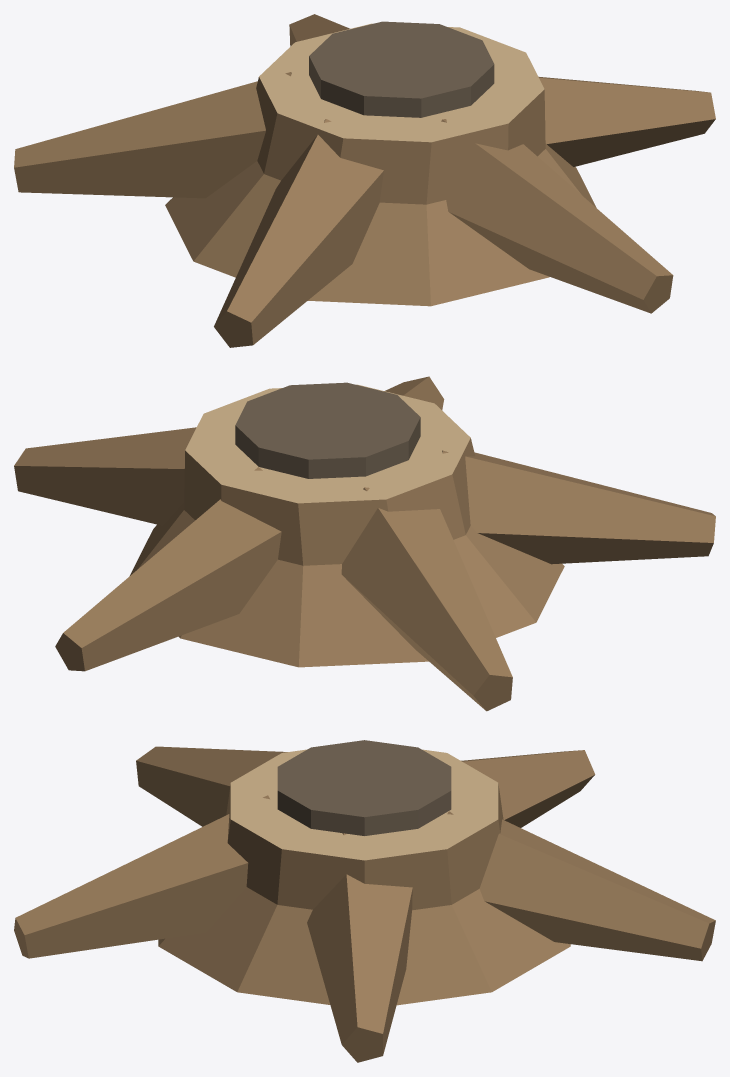
File: stump_03.glb
3 renders of one model, top to bottom at view 1: azimuth 30°, elevation 25°; view 2: azimuth 150°, elevation 25°; view 3: azimuth 270°, elevation 25°, orthographic. The views are drawn at different scales.
Parts seen in each view (by area): view 1: Stump_03; view 2: Stump_03; view 3: Stump_03.
Part boxes in pixels (left/top/right/bottom): Stump_03: left=14, top=14, right=715, bottom=347; Stump_03: left=14, top=376, right=715, bottom=711; Stump_03: left=14, top=740, right=715, bottom=1062.
Bounding box in the file's own units: 1.76 × 0.4283 × 1.85.
